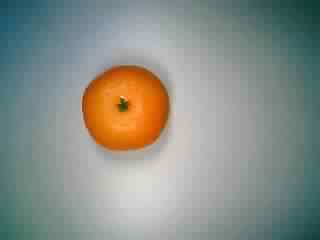orange: (78, 58, 173, 151)
